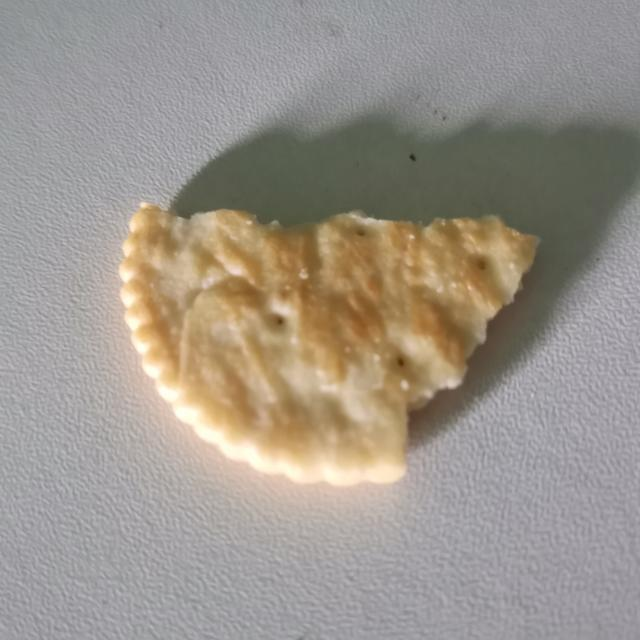Broken: (117, 201, 541, 487)
